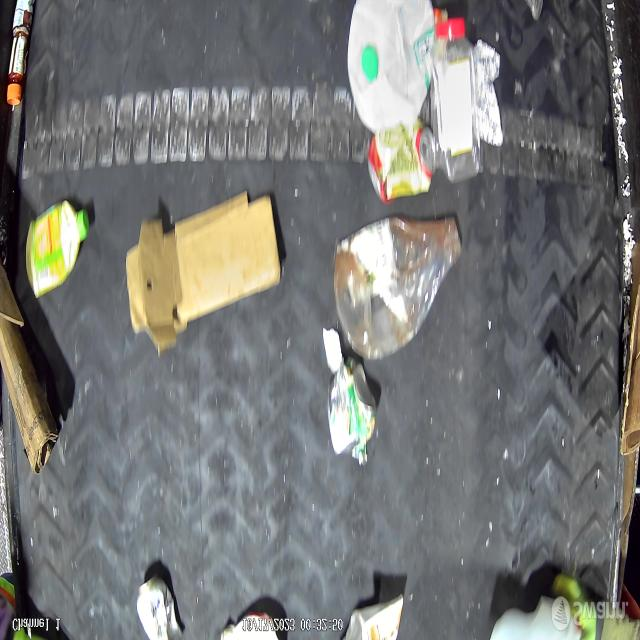can: (368, 119, 435, 205), (327, 356, 378, 464), (136, 576, 181, 640)
milk_jug: (349, 0, 435, 132)
non_white_jug: (25, 200, 90, 300)
plastic_bottle: (332, 218, 462, 360), (436, 18, 482, 183)
